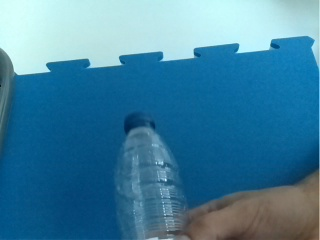botella plastico: (114, 110, 191, 240)
